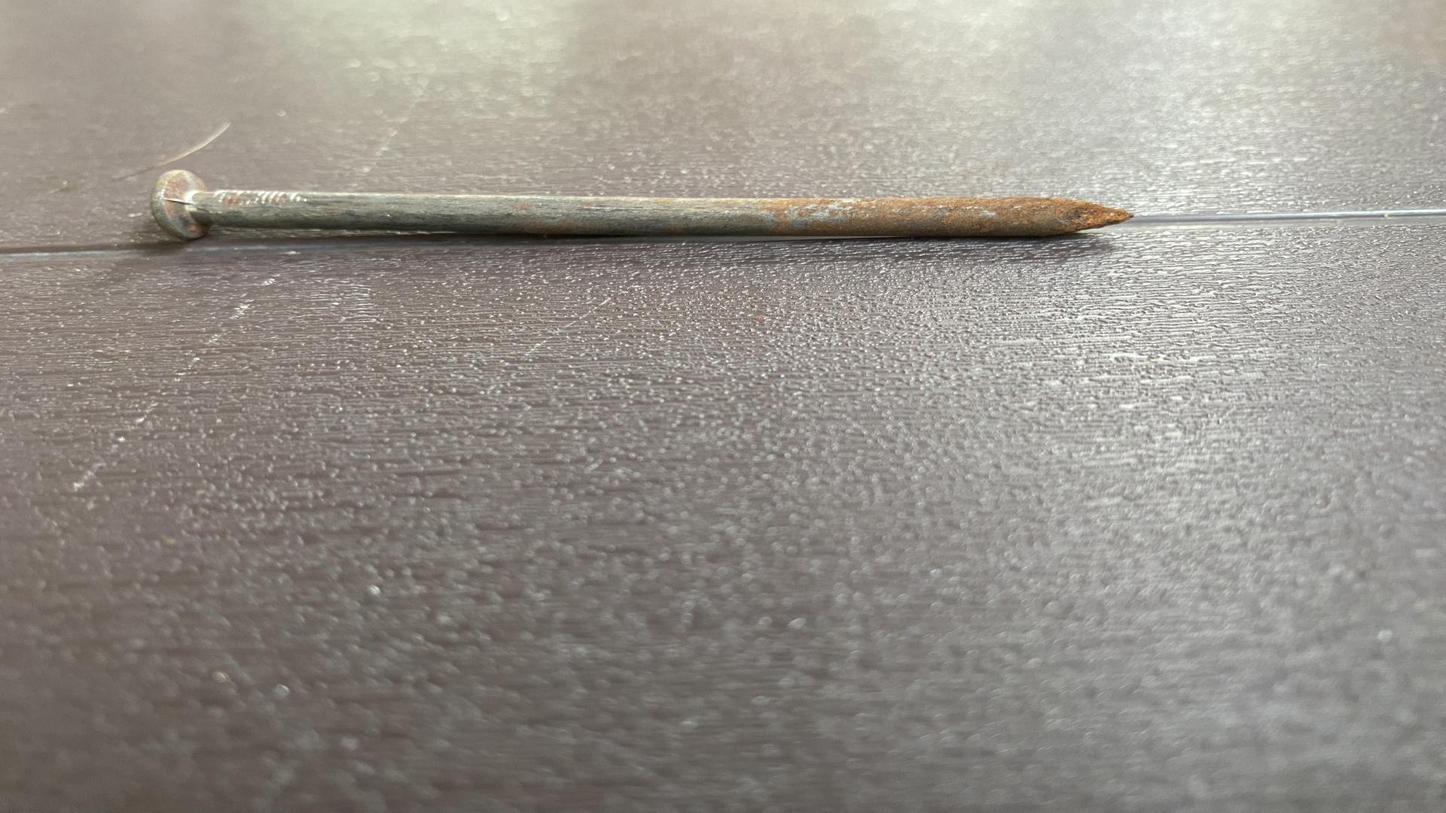nail: (117, 140, 1182, 295)
